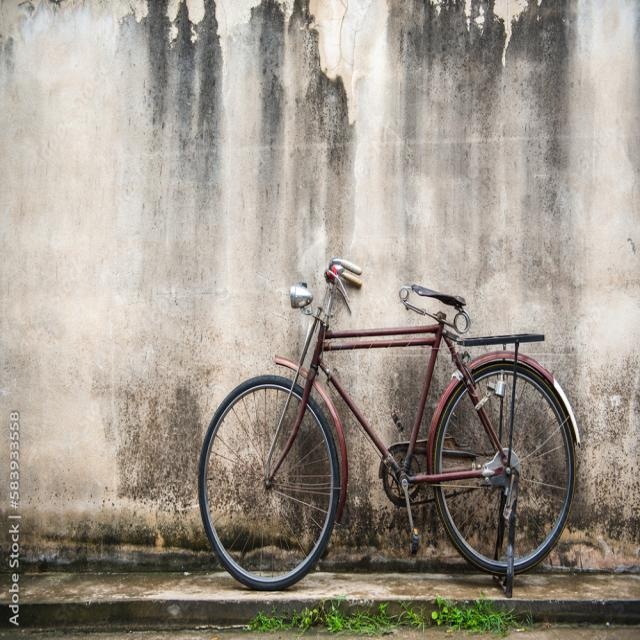road-bike: (190, 257, 580, 594)
